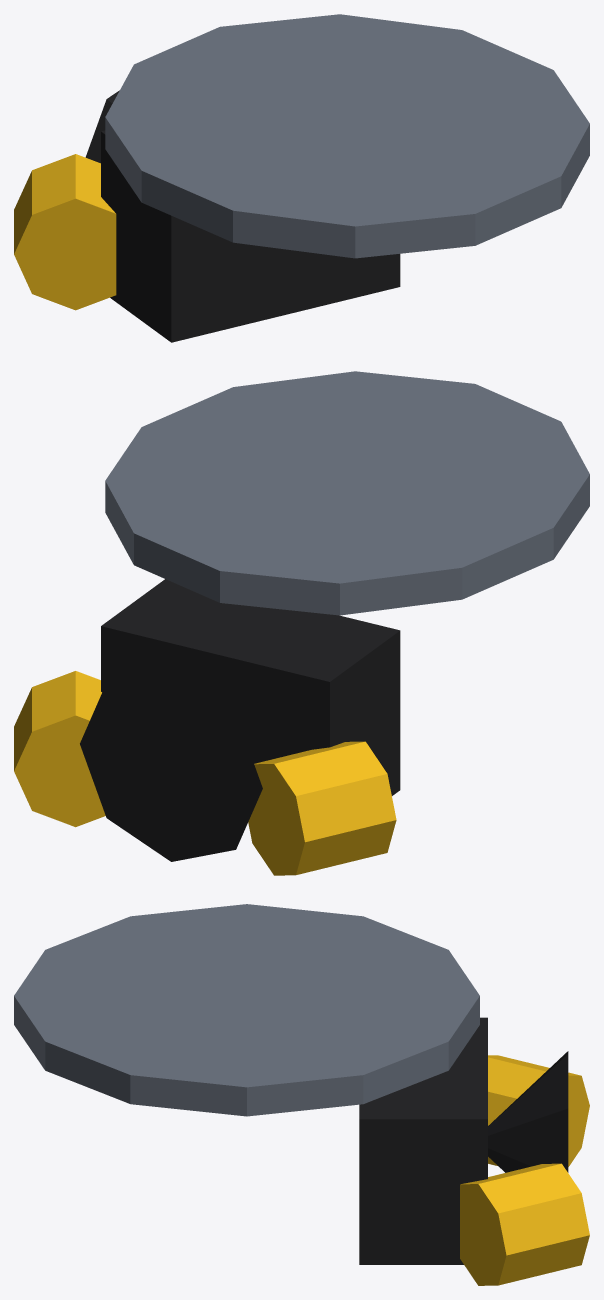
File: cosmetic_glasses_pest_mask.glb
3 renders of one model, top to bottom at view 1: azimuth 30°, elevation 25°; view 2: azimuth 150°, elevation 25°; view 3: azimuth 270°, elevation 25°, orthographic. The views are drawn at different scales.
Parts seen in each view (by area): view 1: cosmetic_glasses_pest_mask; view 2: cosmetic_glasses_pest_mask; view 3: cosmetic_glasses_pest_mask.
Part boxes in pixels (<box>): cosmetic_glasses_pest_mask: <box>14,14,589,342</box>; cosmetic_glasses_pest_mask: <box>14,371,589,875</box>; cosmetic_glasses_pest_mask: <box>14,904,589,1285</box>.
Size of the model in its own units: 0.27 by 0.16 by 0.3585.
Materials: 1 (1 with a texture image).
